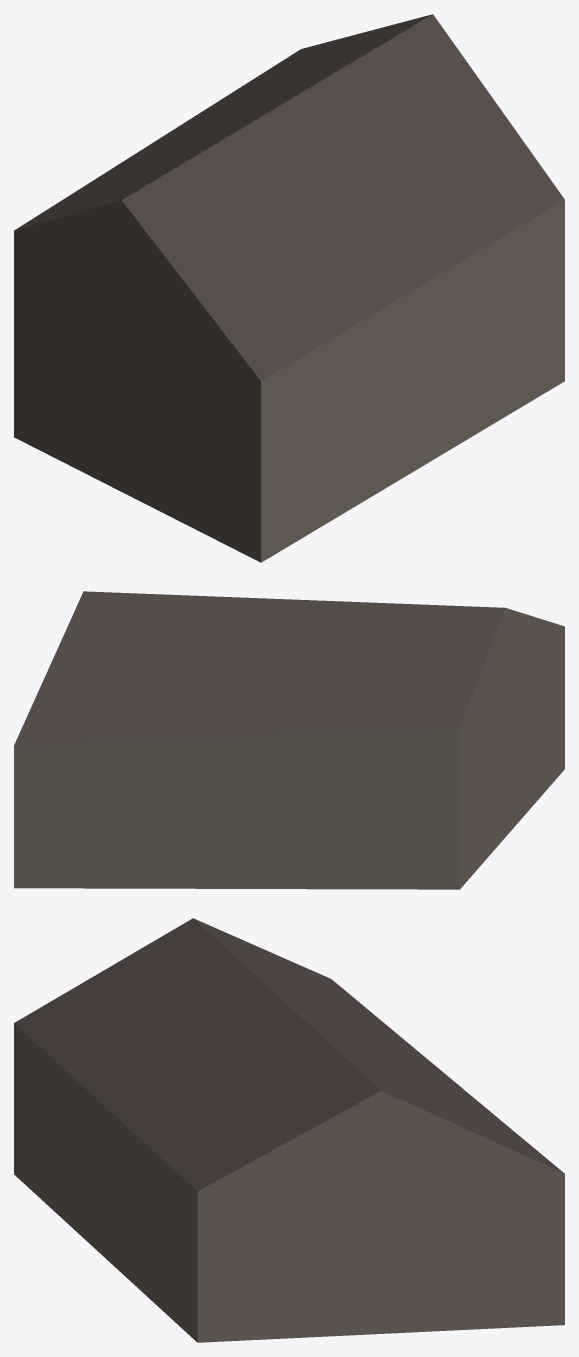
The picture shows the model from 3 angles, top to bottom: view 1: azimuth 30°, elevation 25°; view 2: azimuth 150°, elevation 25°; view 3: azimuth 270°, elevation 25°; orthographic projection. The views are drawn at different scales.
Parts seen in each view (by area): view 1: HP-w783664775; view 2: HP-w783664775; view 3: HP-w783664775.
Part boxes in pixels (box(x1,y1,x2,y2)): HP-w783664775: box(14, 14, 564, 562); HP-w783664775: box(14, 591, 564, 889); HP-w783664775: box(14, 918, 564, 1342).
Size of the model in its own units: 16.28 by 9.64 by 19.8.
